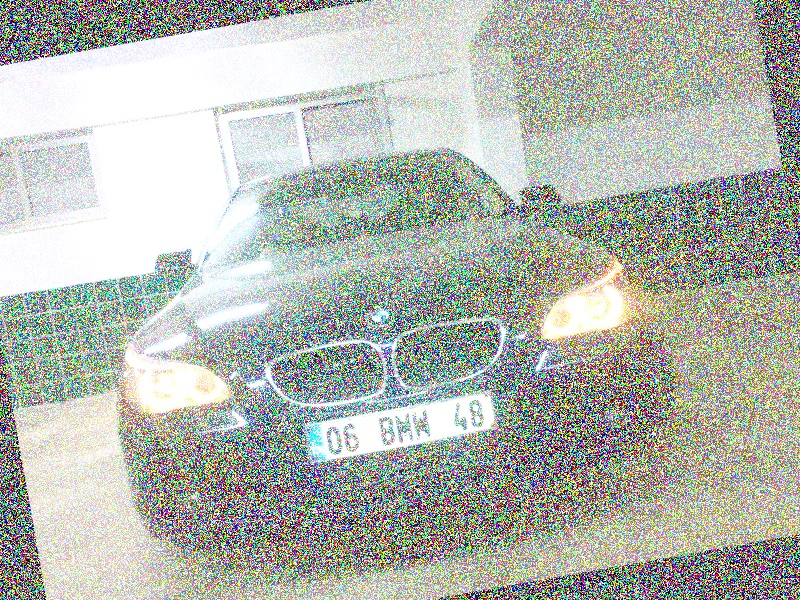plaka: (320, 401, 495, 458)
